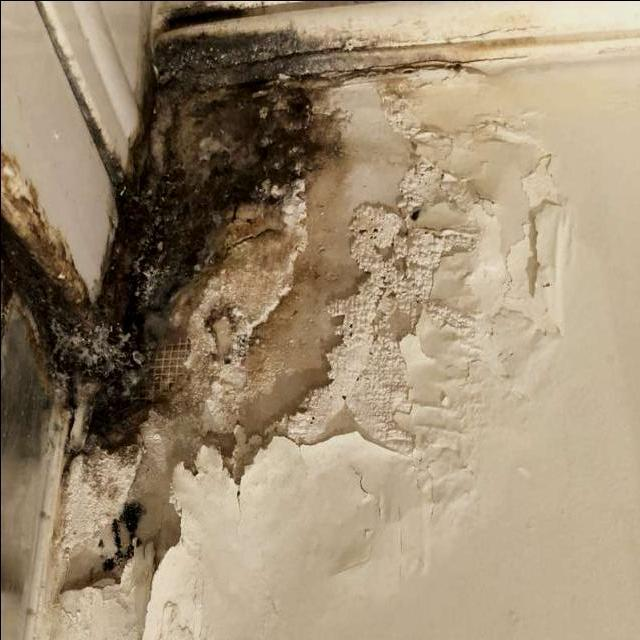dampness: (138, 23, 515, 497), (13, 176, 245, 603)
